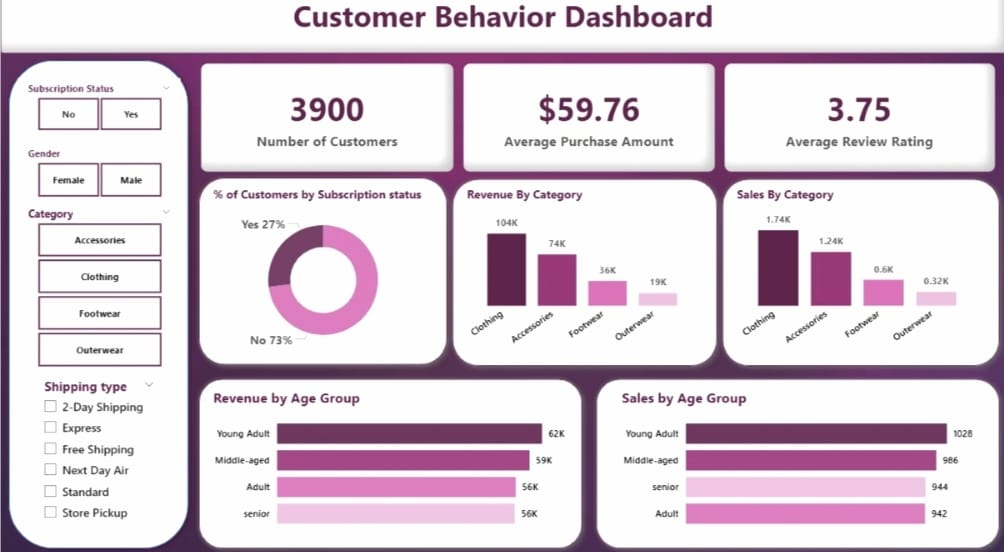

This screenshot's page, from the dashboard's own definition file:
{"tool":"powerbi","page":{"name":"Page 1","canvas":[1280,720],"ordinal":0},"visuals":[{"type":"card","fields":{"Values":["customer.Number of Customers"]},"box":[254.5,93.8,322.9,138.4],"z":0},{"type":"card","fields":{"Values":["customer.Average Review Rating"]},"box":[921,93.8,345.2,138.4],"z":1},{"type":"card","fields":{"Values":["customer.Average Purchase Amount"]},"box":[588.5,93.8,321.3,138.4],"z":2},{"type":"textbox","box":[0,0,1280.4,81.1],"z":3},{"type":"shape","box":[243.4,230.6,334,256.1],"z":4},{"type":"donutChart","title":"  % of Customers by Subscription status","fields":{"Category":["customer.subscription_status"],"Y":["Count(customer.customer_id)"]},"box":[265.6,249.7,289.5,219.5],"z":5},{"type":"shape","box":[566.3,232.2,354.7,256.1],"z":6},{"type":"shape","box":[909.8,232.2,370.6,256.1],"z":7},{"type":"shape","box":[1.6,81.1,246.5,639.4],"z":8},{"type":"clusteredColumnChart","title":"Revenue By Category","fields":{"Y":["Sum(customer.purchase_amount)"],"Category":["customer.category"]},"box":[588.5,249.7,305.4,219.5],"z":9},{"type":"shape","box":[243.4,486.7,505.8,233.8],"z":10},{"type":"shape","box":[749.2,486.7,531.3,233.8],"z":11},{"type":"clusteredColumnChart","title":"Sales By Category","fields":{"Y":["CountNonNull(customer.customer_id)"],"Category":["customer.category"]},"box":[932.1,249.7,318.1,219.5],"z":12},{"type":"slicer","fields":{"Values":["customer.subscription_status"]},"box":[22.3,112.9,206.8,73.2],"z":13},{"type":"slicer","fields":{"Values":["customer.gender"]},"box":[22.3,195.6,206.8,74.8],"z":14},{"type":"slicer","fields":{"Values":["customer.category"]},"box":[22.3,270.4,206.8,216.3],"z":15},{"type":"slicer","fields":{"Values":["customer.shipping_type"]},"box":[42.9,488.3,165.4,202],"z":16},{"type":"barChart","title":"Revenue by Age Group","fields":{"Category":["customer.age_group"],"Y":["Sum(customer.purchase_amount)"]},"box":[265.6,507.4,458.1,192.5],"z":17},{"type":"barChart","title":"Sales by Age Group","fields":{"Category":["customer.age_group"],"Y":["CountNonNull(customer.customer_id)"]},"box":[785.8,507.4,458.1,192.5],"z":18}]}

Visuals, with their boxes in screenshot pixels (x1, y1, x2, y2), scaled from the page's 1280x720 canvas onto the 1004x552 screenshot:
card - customer.Number of Customers: select_region(200, 72, 453, 178)
card - customer.Average Review Rating: select_region(722, 72, 993, 178)
card - customer.Average Purchase Amount: select_region(462, 72, 714, 178)
textbox: select_region(0, 0, 1003, 62)
shape: select_region(191, 177, 453, 373)
"  % of Customers by Subscription status" donutChart: select_region(208, 191, 435, 360)
shape: select_region(444, 178, 722, 374)
shape: select_region(714, 178, 1003, 374)
shape: select_region(1, 62, 195, 551)
"Revenue By Category" clusteredColumnChart: select_region(462, 191, 701, 360)
shape: select_region(191, 373, 588, 551)
shape: select_region(588, 373, 1003, 551)
"Sales By Category" clusteredColumnChart: select_region(731, 191, 981, 360)
slicer - customer.subscription_status: select_region(17, 87, 180, 143)
slicer - customer.gender: select_region(17, 150, 180, 207)
slicer - customer.category: select_region(17, 207, 180, 373)
slicer - customer.shipping_type: select_region(34, 374, 163, 529)
"Revenue by Age Group" barChart: select_region(208, 389, 568, 537)
"Sales by Age Group" barChart: select_region(616, 389, 976, 537)
